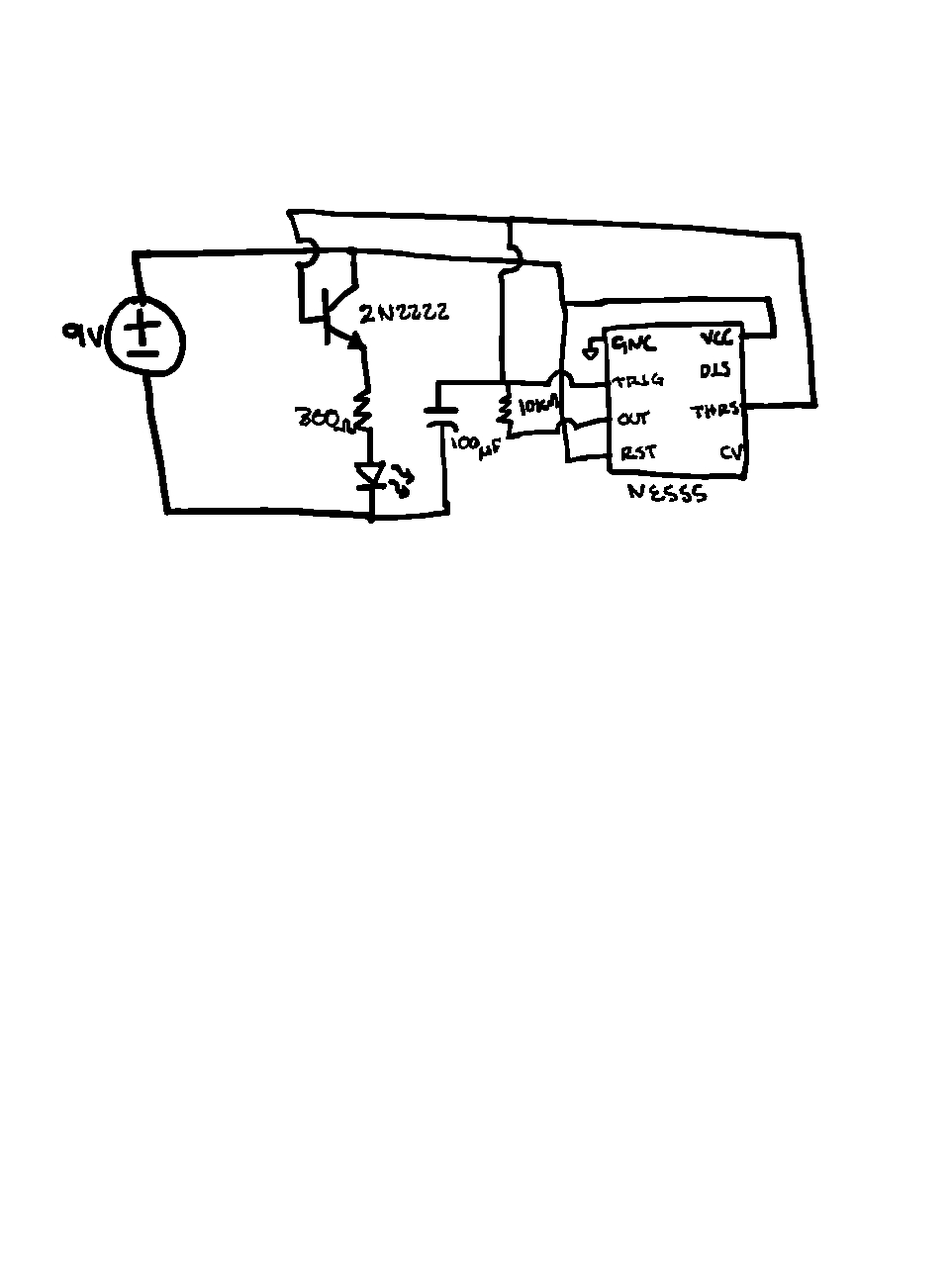capacitor.unpolarized: (422, 403, 462, 433)
crossover: (497, 241, 524, 277), (293, 235, 320, 269), (543, 370, 577, 388), (554, 418, 580, 434)
diode.light_emitting: (352, 455, 417, 500)
gnd: (580, 347, 599, 360)
integrated_circuit.ne555: (601, 321, 747, 480)
junction: (439, 505, 454, 521), (129, 248, 145, 262), (160, 506, 176, 519), (347, 244, 361, 257), (367, 511, 379, 526), (558, 299, 570, 313), (551, 260, 564, 272), (562, 453, 575, 465), (285, 206, 296, 220), (498, 378, 514, 387), (806, 399, 817, 411), (791, 232, 803, 243), (433, 378, 444, 389), (504, 216, 516, 226), (297, 315, 306, 326), (505, 432, 514, 442), (768, 330, 777, 340), (764, 296, 772, 305), (587, 336, 595, 342)
resistor: (348, 382, 380, 444), (496, 392, 517, 425)
text: (359, 302, 456, 326), (624, 482, 709, 506), (292, 403, 353, 436), (451, 434, 501, 463), (60, 318, 102, 351), (688, 400, 740, 422), (611, 371, 665, 390), (611, 334, 658, 355), (618, 443, 659, 464), (520, 394, 559, 416), (698, 360, 732, 381), (616, 410, 652, 429), (700, 329, 735, 347), (717, 443, 745, 463)
transistor.bjt: (318, 283, 366, 355)
voltage.dc: (104, 292, 195, 385)
